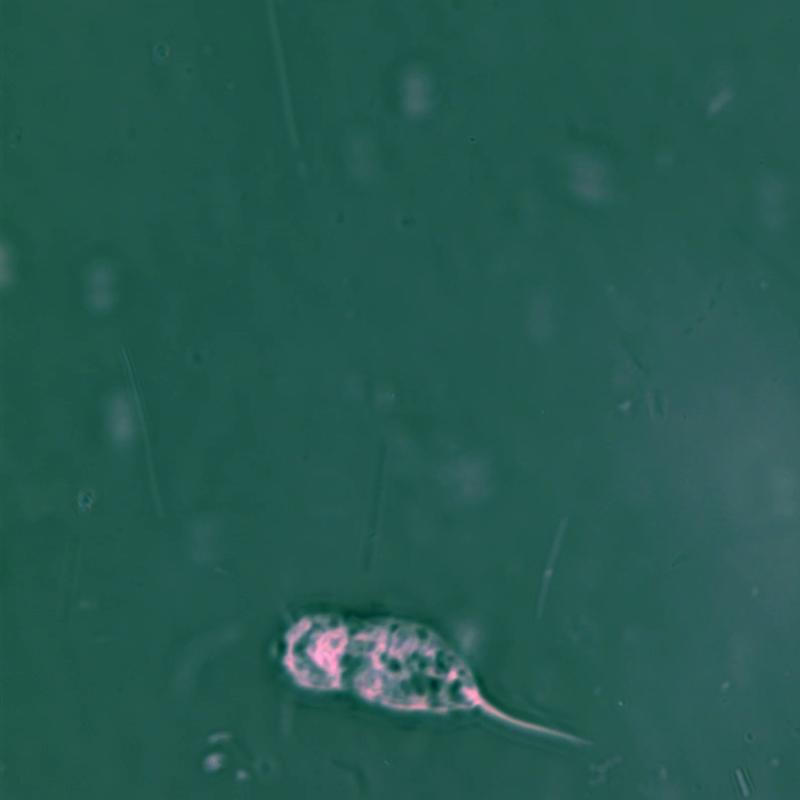depth:40: (251, 581, 611, 777)
